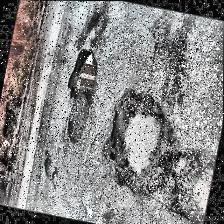pothole: (104, 98, 170, 184), (176, 152, 216, 220), (61, 46, 105, 106)
